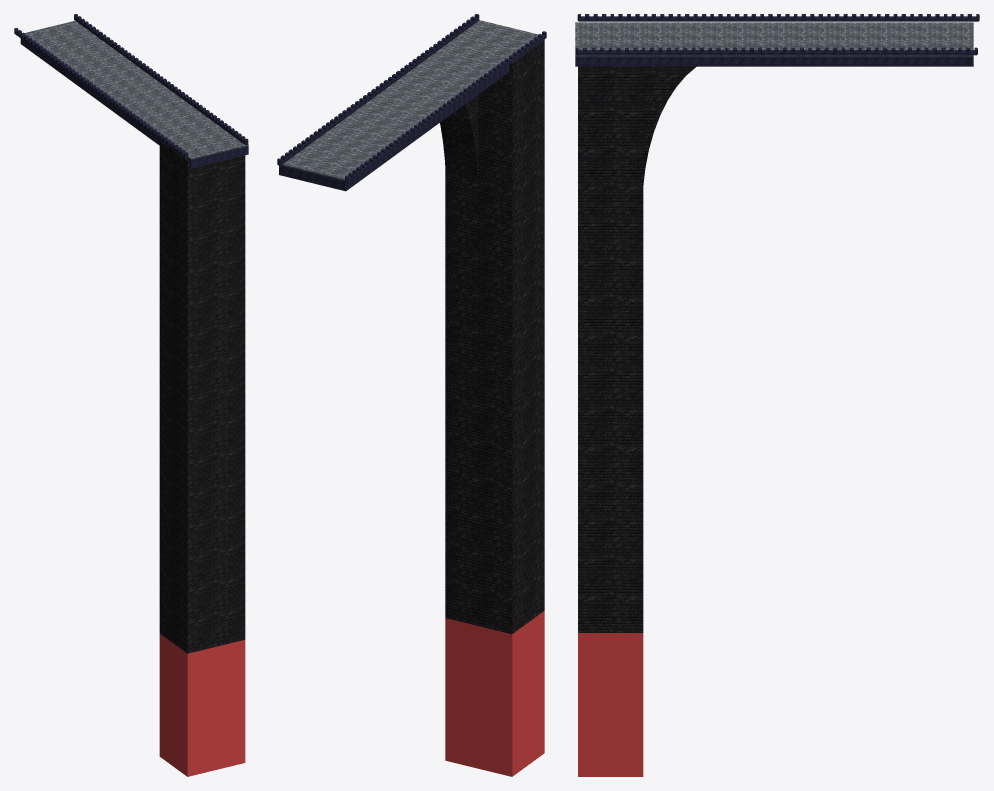
Rendered from aqueduct-column.glb.
3 views of the same model, side by side, from view 1: azimuth 30°, elevation 25°; view 2: azimuth 150°, elevation 25°; view 3: azimuth 270°, elevation 25° (orthographic). The views are drawn at different scales.
Parts seen in each view (by area): view 1: block, floor; view 2: block, floor, halfPipe_half; view 3: block, floor, halfPipe_half.
Boxes of the visible parts, left/top/right/bottom form: block: left=159, top=140, right=245, bottom=776; floor: left=20, top=20, right=248, bottom=168; block: left=445, top=39, right=544, bottom=776; floor: left=279, top=20, right=538, bottom=191; halfPipe_half: left=440, top=95, right=478, bottom=182; block: left=578, top=66, right=643, bottom=776; floor: left=575, top=22, right=973, bottom=66; halfPipe_half: left=643, top=66, right=696, bottom=184.
Size of the model in its own units: 20.43 by 196 by 98.37.
Materials: 53 (52 with a texture image).
